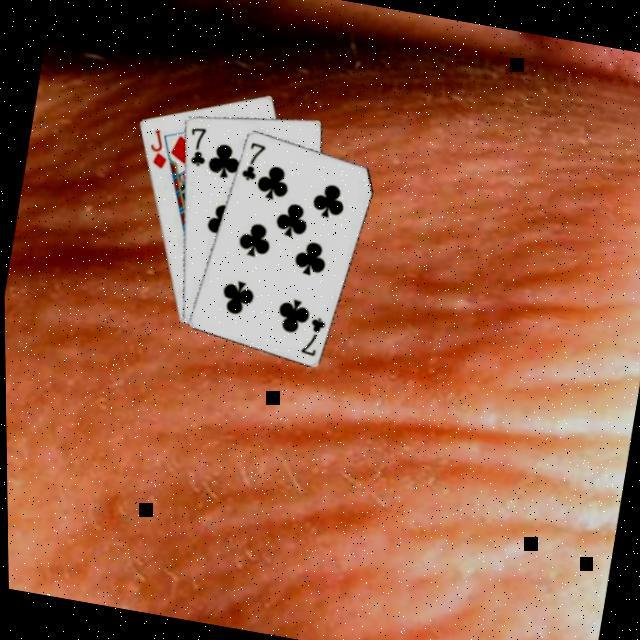7C: (182, 120, 215, 169), (297, 309, 330, 358), (238, 136, 272, 183)
JD: (143, 122, 175, 170)
